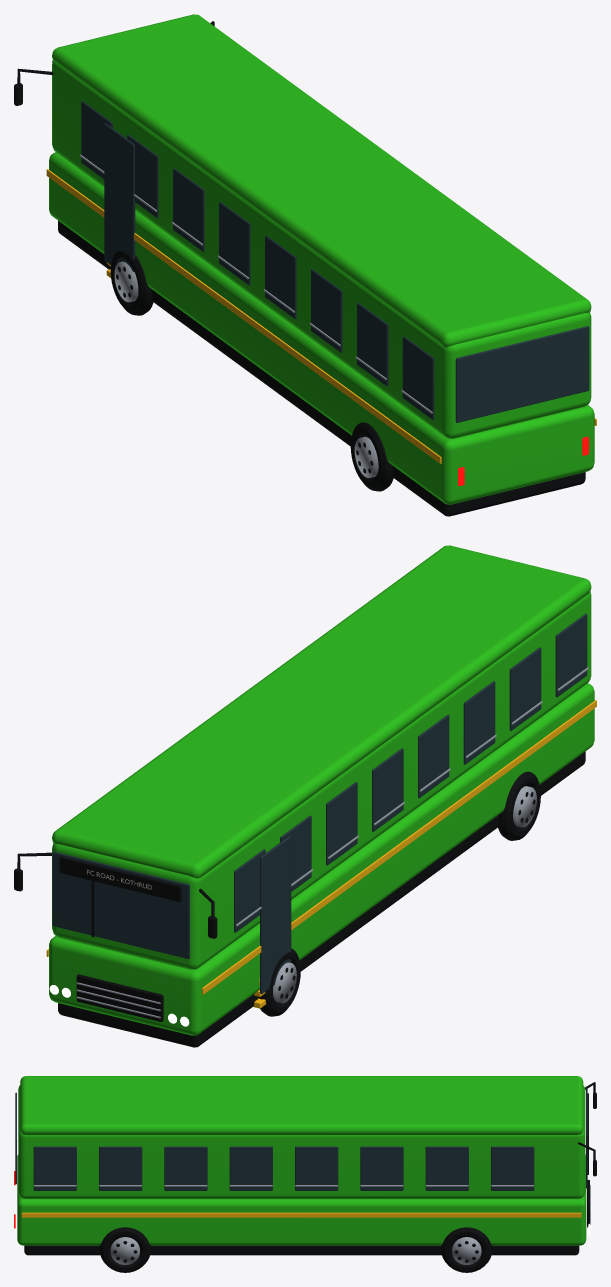
The model's file is city-green-bus.glb.
3 views of the same model, one above another, from view 1: azimuth 30°, elevation 25°; view 2: azimuth 150°, elevation 25°; view 3: azimuth 270°, elevation 25° (orthographic). The views are drawn at different scales.
Parts seen in each view (by area): view 1: Surface_Paint, Surface_Bus_glass, Surface_Bus_rubber, Surface_Yellow_livery, Bus_tire, Bus_tire.001, Surface_Bus_alloy, Bus_rim, Bus_rim.001; view 2: Surface_Paint, Surface_Bus_glass, Surface_Bus_rubber, Surface_Yellow_livery, Surface_Bus_alloy, Bus_tire, Bus_tire.001, Bus_rim, Bus_rim.001; view 3: Surface_Paint, Surface_Bus_glass, Surface_Bus_rubber, Surface_Yellow_livery, Bus_tire.003, Bus_tire.002, Surface_Bus_alloy, Bus_rim.003, Bus_rim.002.
Boxes of the visible parts, x1,y1,x2,y2 form: Surface_Paint: (49,14,594,504); Surface_Bus_glass: (52,60,589,422); Surface_Bus_rubber: (14,21,585,516); Surface_Yellow_livery: (46,169,596,463); Bus_tire: (350,422,393,491); Bus_tire.001: (110,251,153,315); Surface_Bus_alloy: (80,155,432,413); Bus_rim: (354,436,378,477); Bus_rim.001: (114,261,138,302); Surface_Paint: (49,545,594,1035); Surface_Bus_glass: (52,613,587,993); Surface_Bus_rubber: (14,751,585,1047); Surface_Yellow_livery: (46,700,596,1008); Surface_Bus_alloy: (76,667,588,1018); Bus_tire: (498,771,540,840); Bus_tire.001: (259,948,300,1016); Bus_rim: (513,786,536,827); Bus_rim.001: (273,962,296,1003); Surface_Paint: (17,1076,586,1245); Surface_Bus_glass: (15,1088,587,1190); Surface_Bus_rubber: (24,1082,596,1255); Surface_Yellow_livery: (21,1212,581,1217); Bus_tire.003: (441,1227,492,1272); Bus_tire.002: (99,1227,151,1272); Surface_Bus_alloy: (34,1185,590,1224); Bus_rim.003: (452,1237,481,1264); Bus_rim.002: (110,1237,139,1264).
Bounding box in the file's own units: 3.27 × 3.19 × 11.47.
